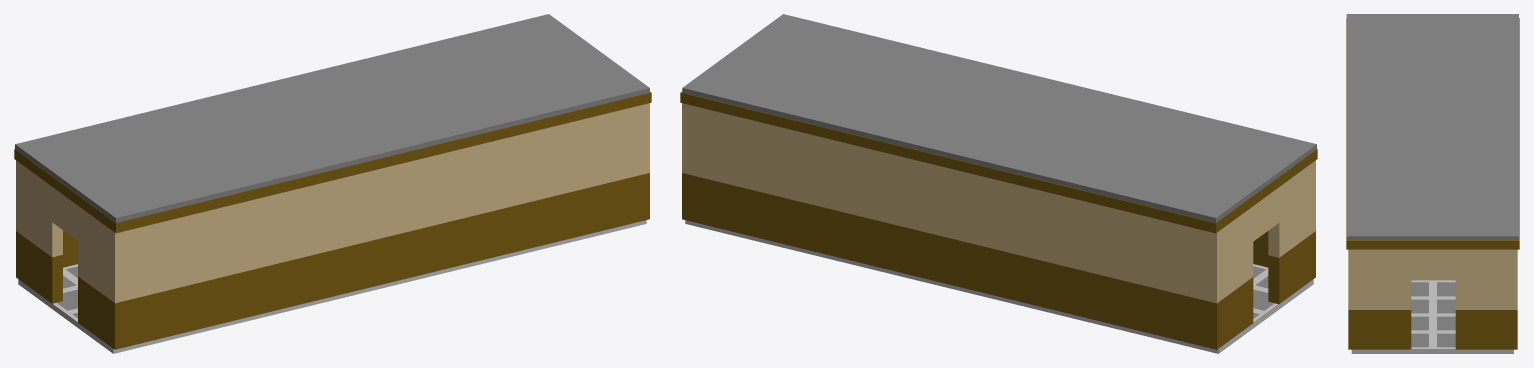
The model's file is WalkWay-1 (1).fbx.
3 renders of one model, left to right at view 1: azimuth 30°, elevation 25°; view 2: azimuth 150°, elevation 25°; view 3: azimuth 270°, elevation 25°, orthographic. The views are drawn at different scales.
Parts seen in each view (by area): view 1: Cube, Roof.001, Cube.002, _WalkPath; view 2: Cube, Roof.001, Cube.002, _WalkPath; view 3: Roof.001, Cube, _WalkPath, Cube.002.
Boxes of the visible parts, left/top/right/bottom form: Cube: left=16, top=103, right=649, bottom=349; Roof.001: left=15, top=14, right=649, bottom=222; Cube.002: left=14, top=91, right=651, bottom=233; _WalkPath: left=18, top=220, right=646, bottom=353; Cube: left=682, top=103, right=1315, bottom=349; Roof.001: left=682, top=14, right=1316, bottom=222; Cube.002: left=680, top=91, right=1317, bottom=233; _WalkPath: left=685, top=220, right=1313, bottom=353; Roof.001: left=1346, top=14, right=1518, bottom=240; Cube: left=1348, top=249, right=1517, bottom=349; _WalkPath: left=1351, top=280, right=1513, bottom=353; Cube.002: left=1346, top=18, right=1519, bottom=249.
Size of the model in its own units: 1517 by 374 by 498.
